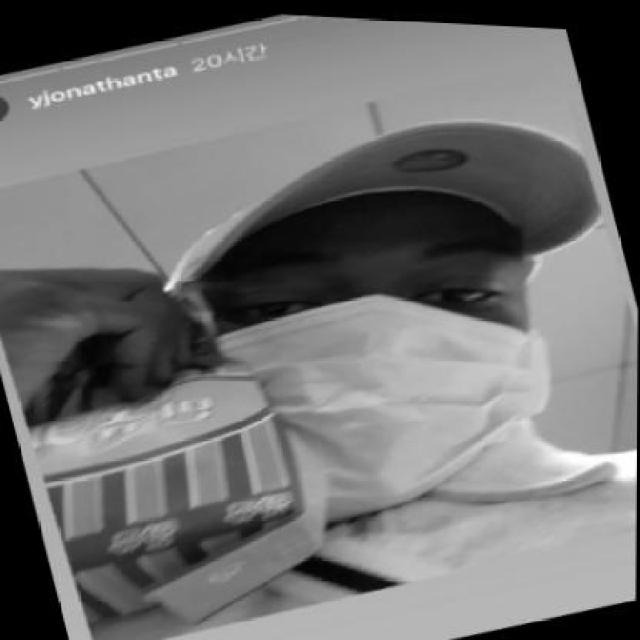hat: (141, 61, 622, 354)
